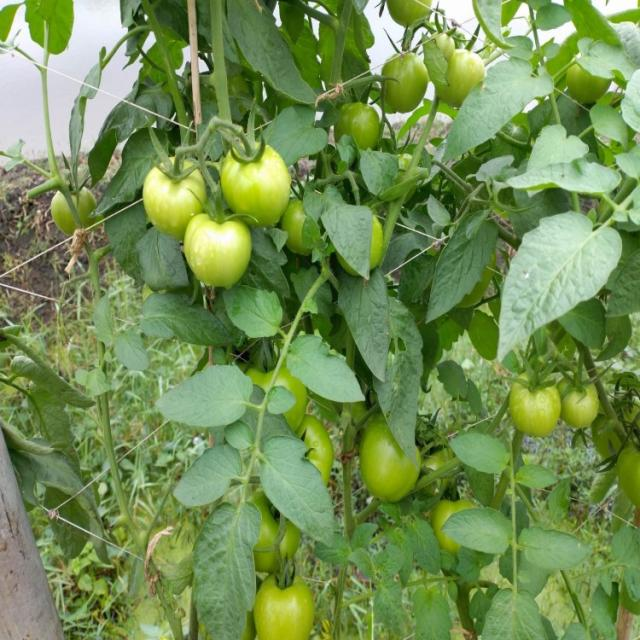tomato: (354, 412, 422, 504), (223, 139, 277, 223), (189, 223, 254, 285), (144, 159, 208, 221), (253, 573, 312, 640), (507, 376, 559, 438), (435, 39, 483, 103), (255, 498, 298, 569), (381, 52, 429, 114), (285, 193, 321, 259), (562, 372, 600, 433), (256, 366, 305, 411), (52, 185, 93, 238), (300, 417, 335, 478), (565, 62, 614, 104), (336, 102, 378, 146), (605, 394, 640, 443), (362, 212, 387, 275), (436, 492, 465, 543), (389, 1, 439, 30), (622, 446, 640, 511), (428, 439, 453, 483), (394, 149, 415, 172)
